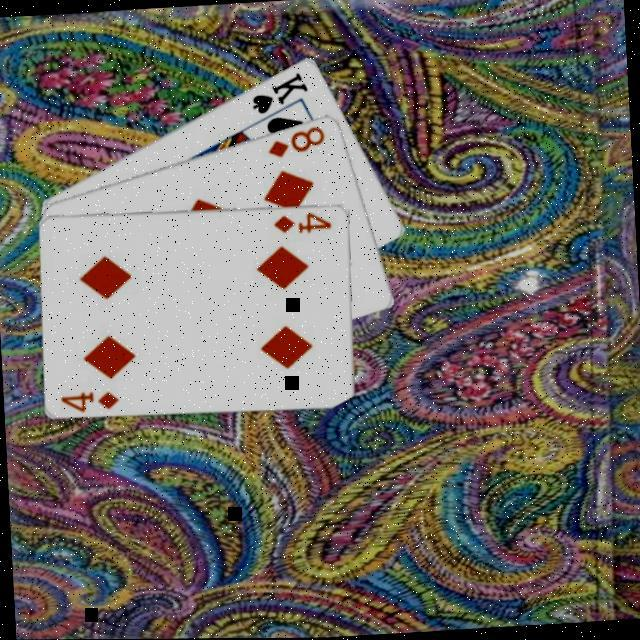4D: (57, 387, 122, 415), (270, 210, 334, 238)
8D: (262, 124, 328, 162)
KS: (247, 70, 310, 119)
